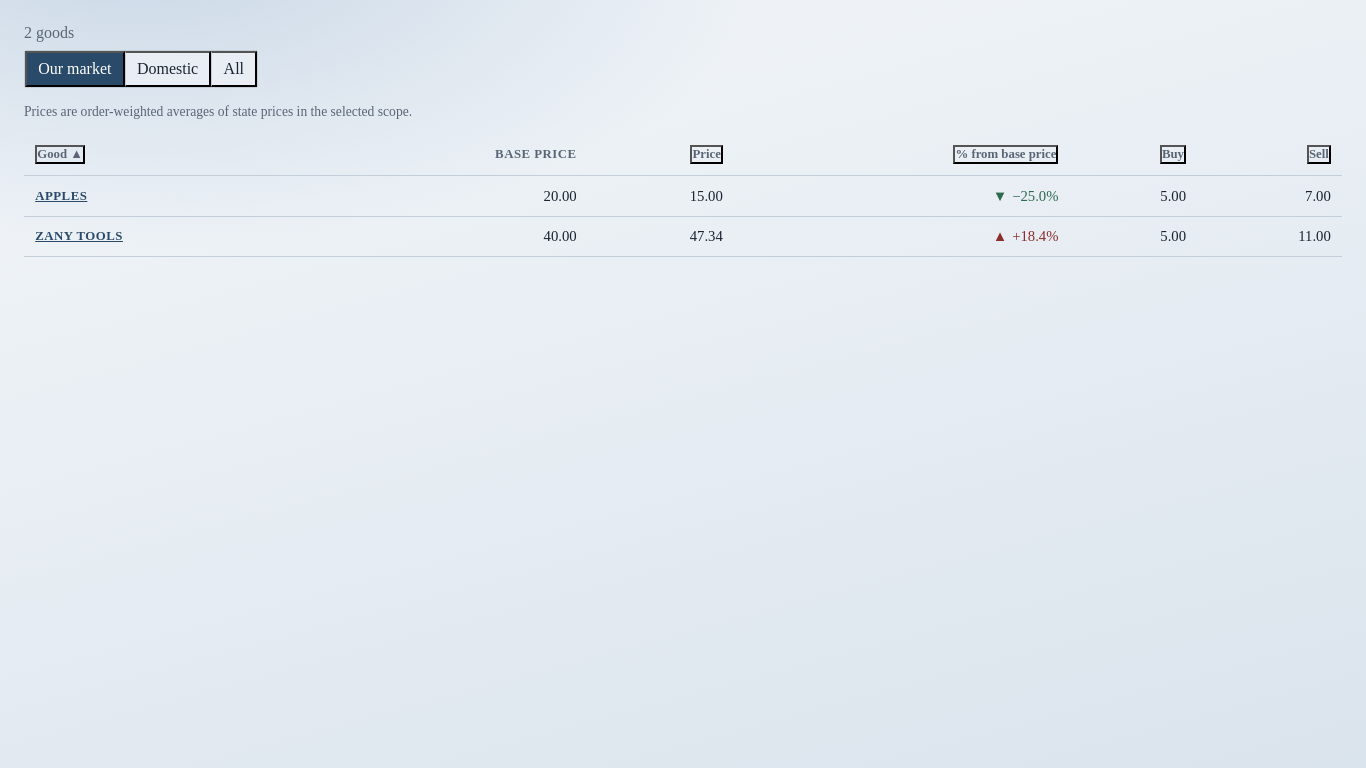
Test: PriceExplorer › applies scope to global order-weighted average prices and orders
Expected: the row "Zany Tools" shows "47.34", [690,228,723,244]
Expected: the row "Zany Tools" shows "5.00", [1160,228,1186,244]
What coordinates should you click on to do the following:
click the button "Domestic"
I would click on:
 (168, 69)
Its box is [125,51,211,87].
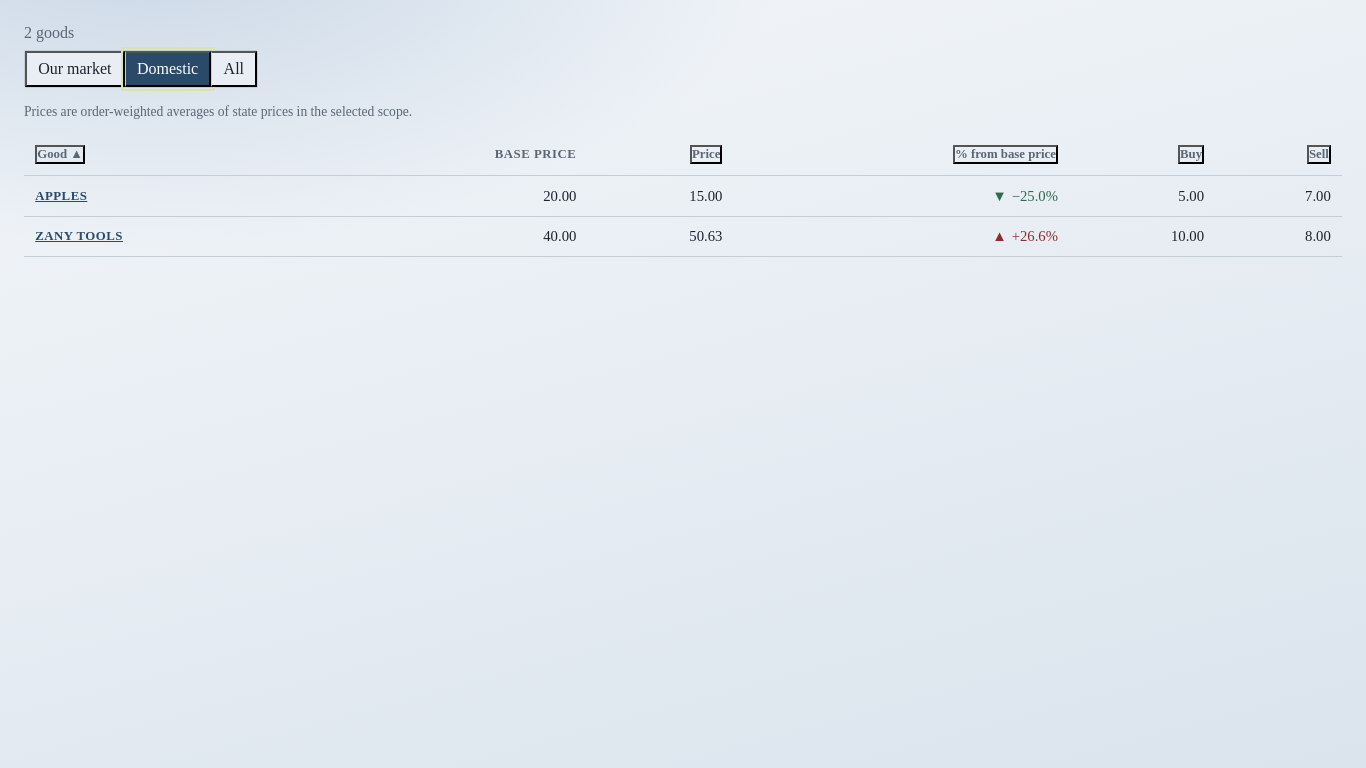
Result: the row "Zany Tools" shows "50.63" at [689,228,722,244]
Result: the row "Zany Tools" shows "10.00" at [1171,228,1204,244]
Result: the row "Zany Tools" shows "8.00" at [1305,228,1331,244]
